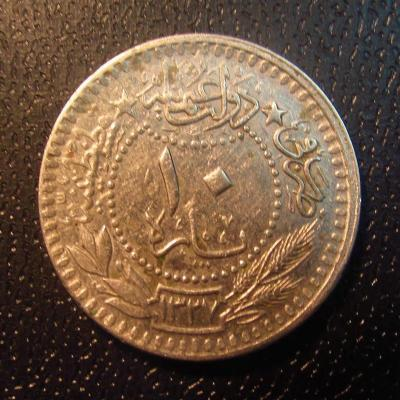numismatics: (39, 34, 360, 360)
